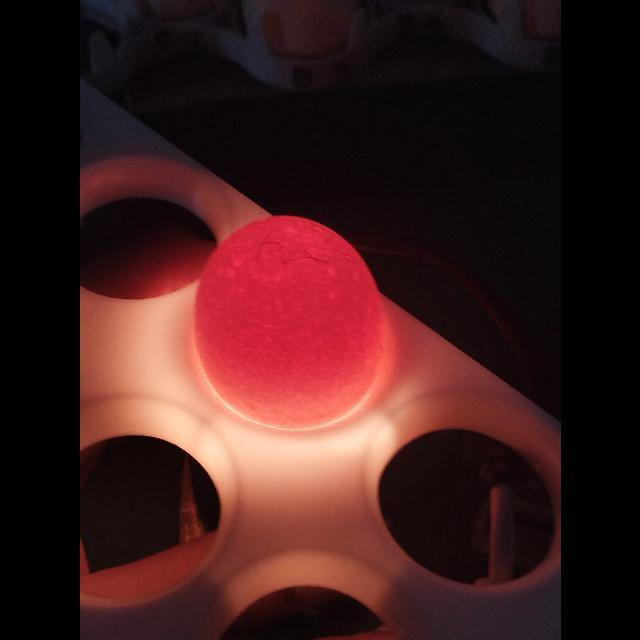Infertile: (190, 213, 388, 433)
